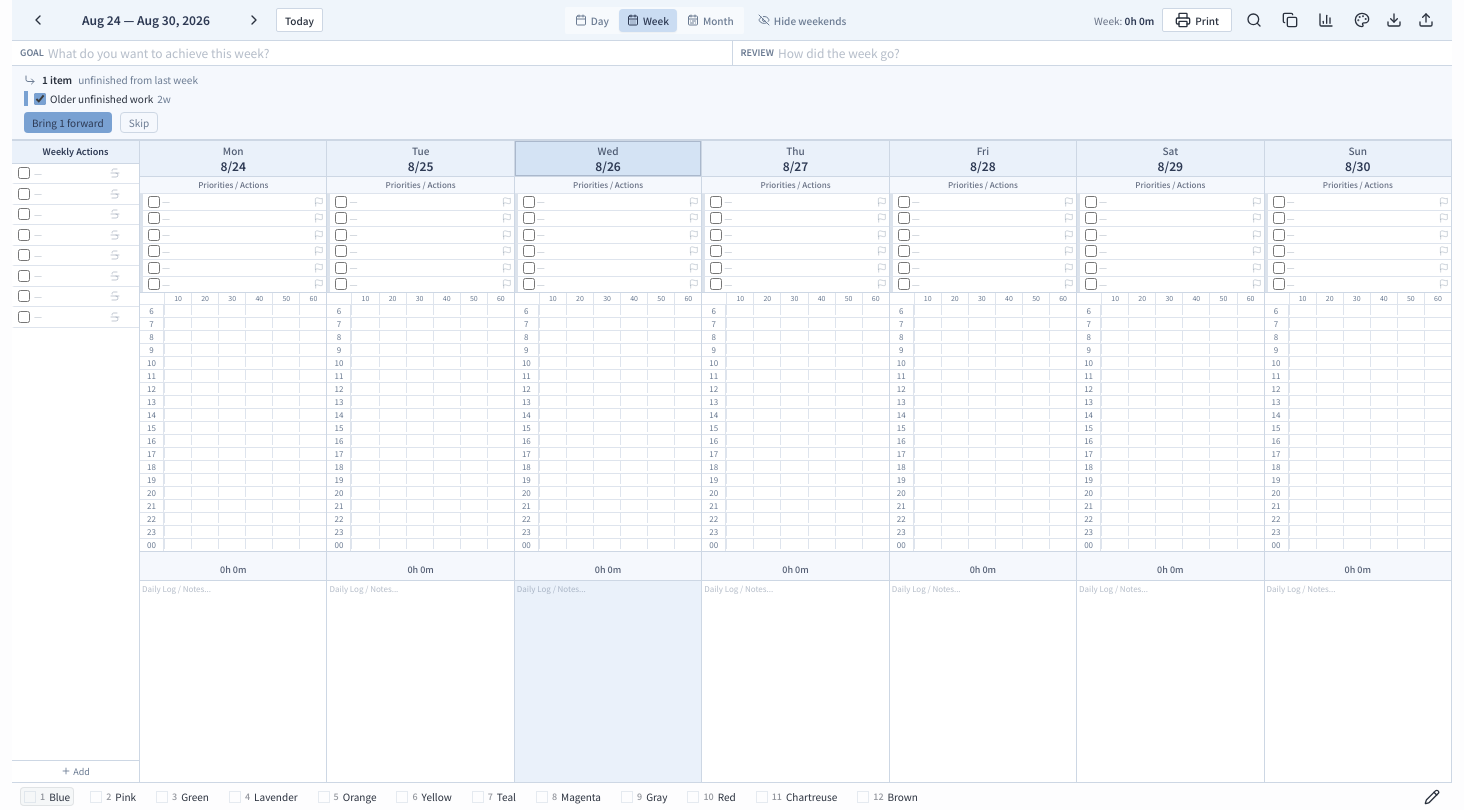
it: StudyPlanner carry-forward › does not offer the bar on a past week even when there is work behind it
The width and height of the screenshot is (1464, 810).
What coordinates should you click on to do the following:
click the button named "Previous week"
I would click on:
 (38, 20)
Its box is top-left (24, 6), bottom-right (52, 34).
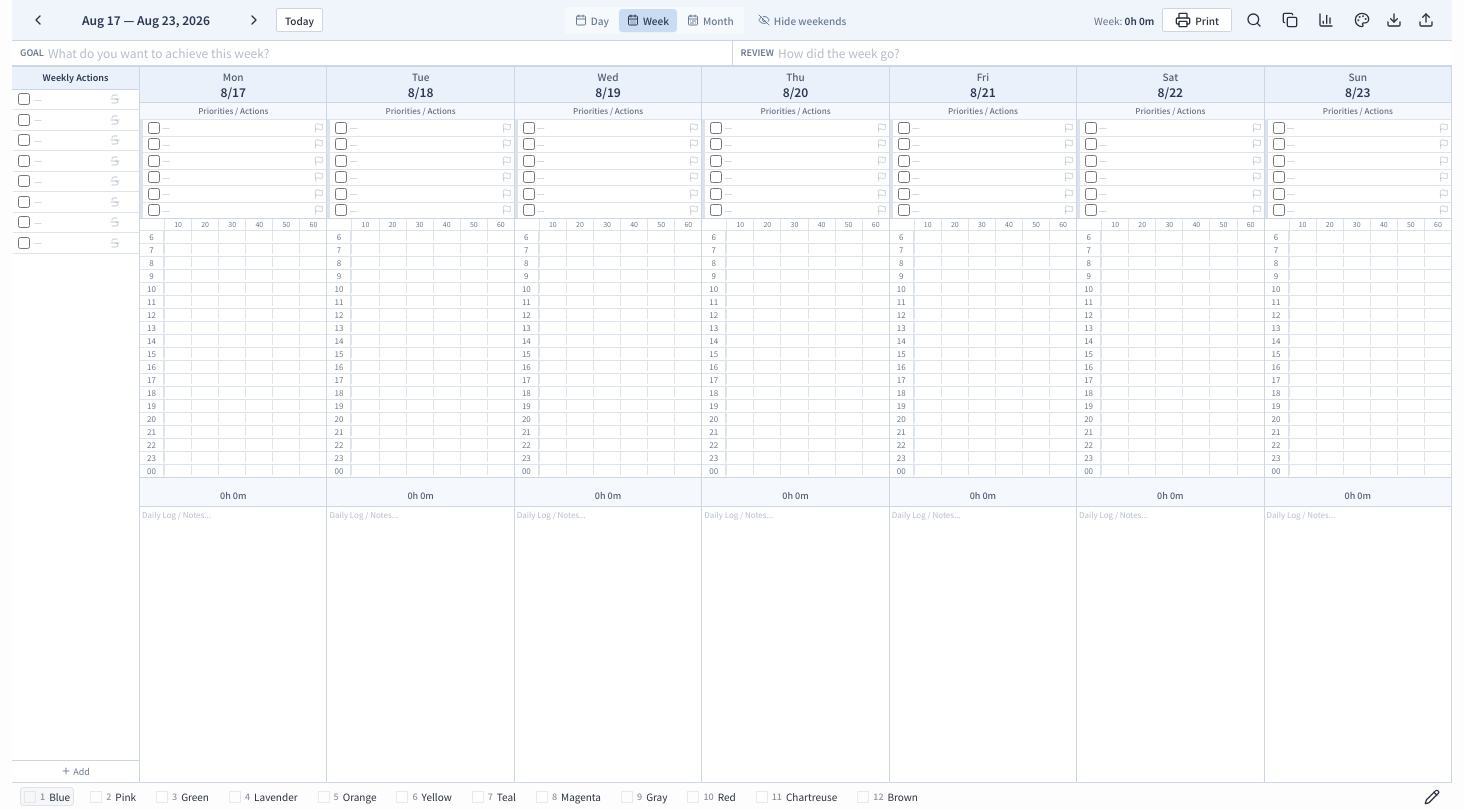
expect the text "unfinished from last week" is gone: met
